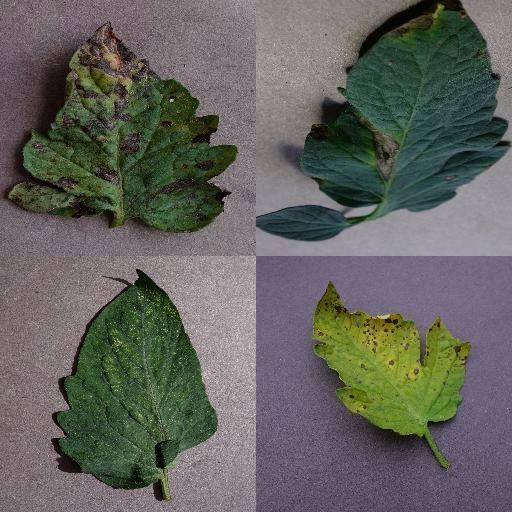Early Blight: (10, 21, 234, 235), (299, 2, 512, 211)
Healthy: (256, 203, 346, 242)
Septoria: (314, 280, 474, 438)
Spider Mites: (54, 268, 219, 489)
